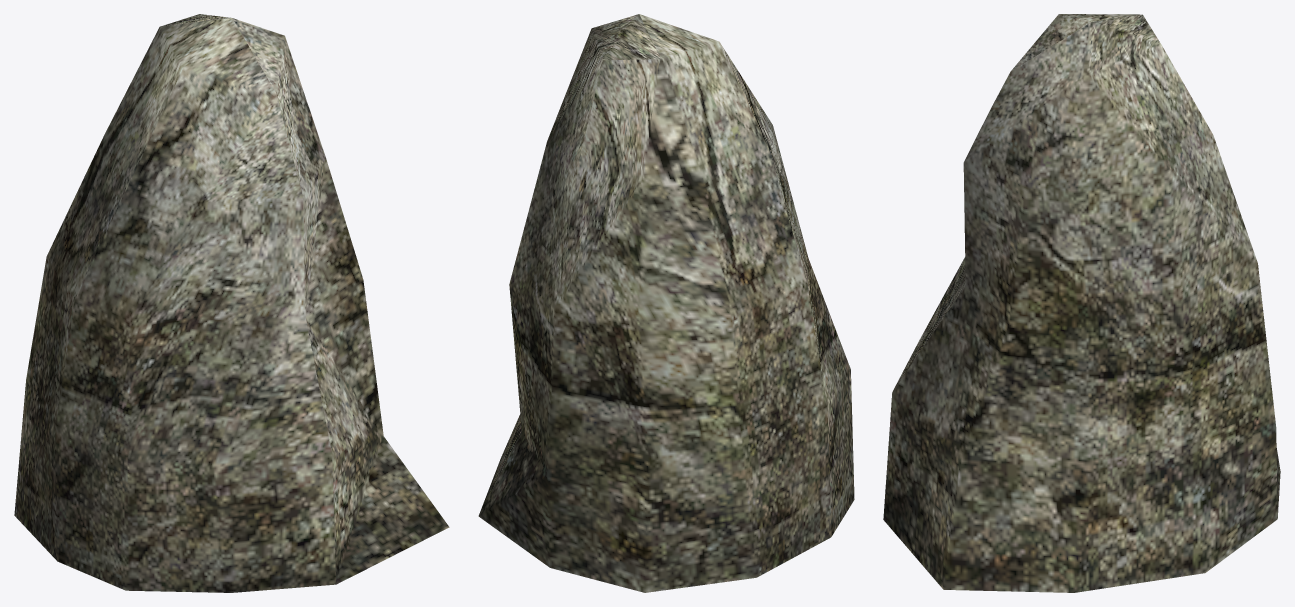
The model's file is general_obj_stone01.fbx.
The picture shows the model from 3 angles, left to right: view 1: azimuth 30°, elevation 25°; view 2: azimuth 150°, elevation 25°; view 3: azimuth 270°, elevation 25°; orthographic projection. The views are drawn at different scales.
Visible parts, largest first — view 1: Sphere01; view 2: Sphere01; view 3: Sphere01.
Boxes of the visible parts, x1,y1,x2,y2 form: Sphere01: (14,14,449,592); Sphere01: (478,14,854,592); Sphere01: (883,14,1280,592).
Size of the model in its own units: 2.32 by 3.28 by 2.37.
